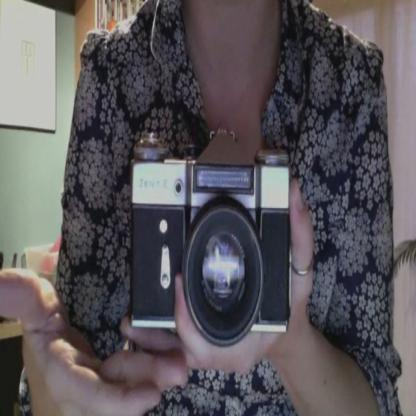Camera: (129, 127, 294, 352)
